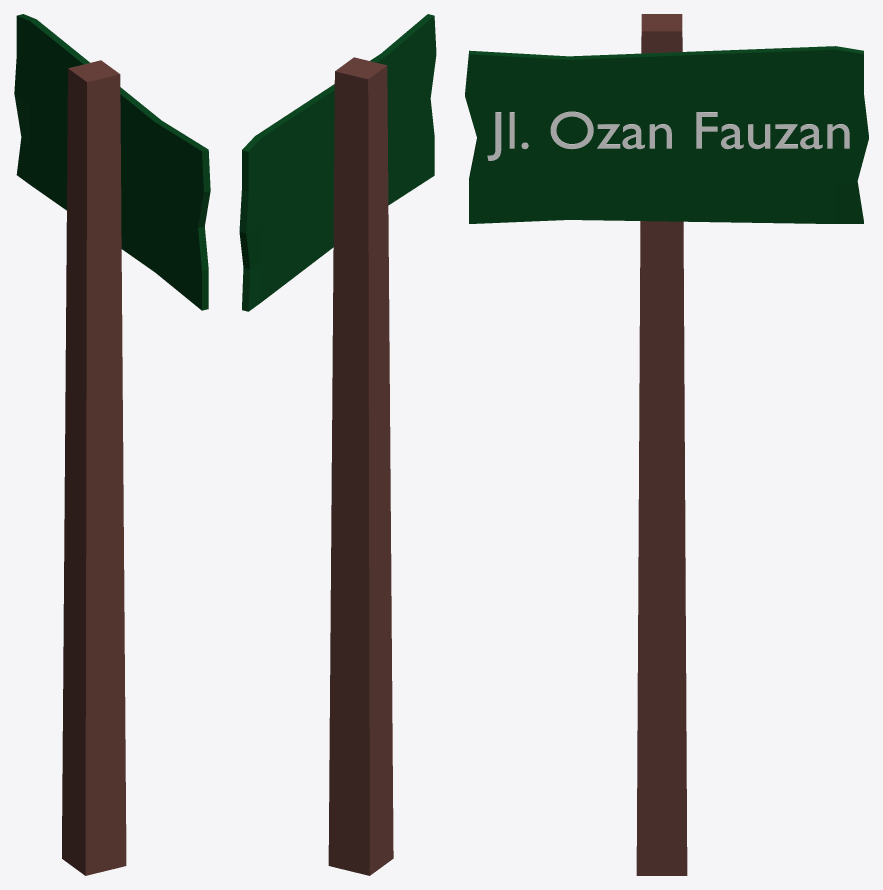
Rendered from PlangJalan-1.fbx.
3 renders of one model, left to right at view 1: azimuth 30°, elevation 25°; view 2: azimuth 150°, elevation 25°; view 3: azimuth 270°, elevation 25°, orthographic. The views are drawn at different scales.
Parts seen in each view (by area): view 1: Cube, Cube.001; view 2: Cube, Cube.001; view 3: Cube.001, Cube, Text.
Part boxes in pixels (x1=…): Cube: x1=62, y1=60, x2=126, y2=875; Cube.001: x1=14, y1=14, x2=210, y2=310; Cube: x1=328, y1=57, x2=393, y2=875; Cube.001: x1=239, y1=14, x2=436, y2=311; Cube.001: x1=465, y1=46, x2=868, y2=223; Cube: x1=636, y1=14, x2=687, y2=875; Text: x1=487, y1=111, x2=849, y2=160.
Size of the model in its own units: 28.73 by 471 by 205.
